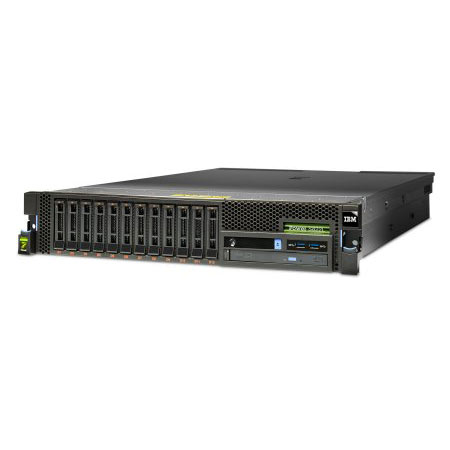ibm-server: (13, 164, 435, 281)
